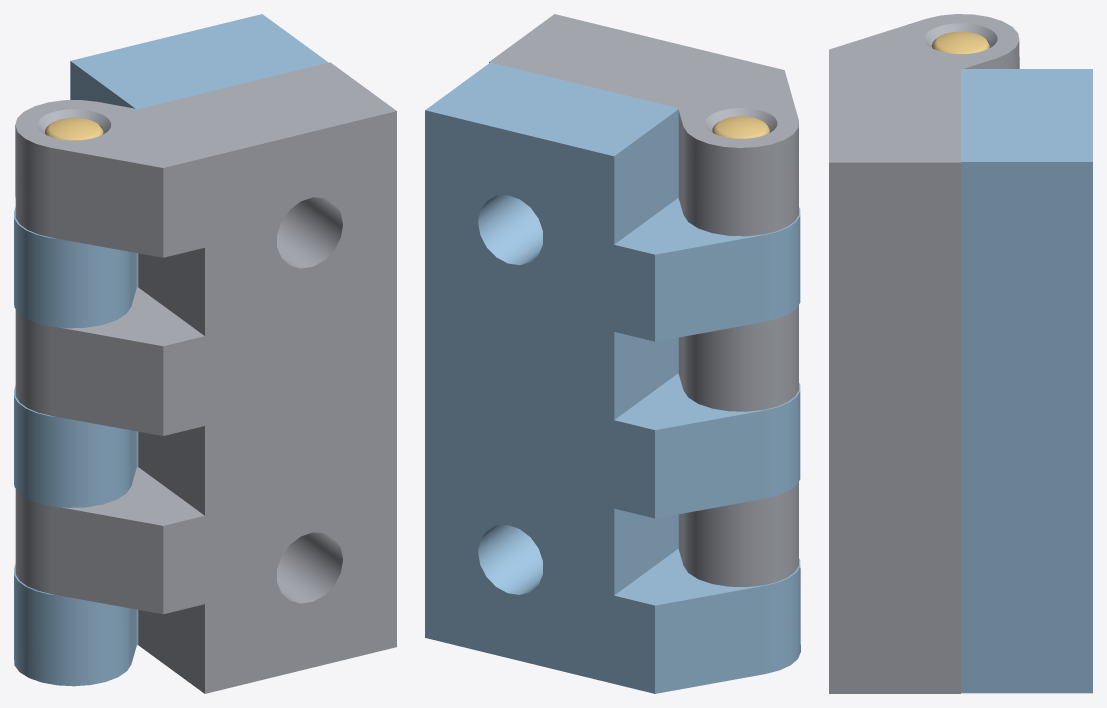
Rendered from widget_hinge.glb.
3 views of the same model, side by side, from view 1: azimuth 30°, elevation 25°; view 2: azimuth 150°, elevation 25°; view 3: azimuth 270°, elevation 25° (orthographic).
Visible parts, largest first — view 1: hinge_static_end, hinge_dynamic_end, hinge_pin; view 2: hinge_dynamic_end, hinge_static_end, hinge_pin; view 3: hinge_static_end, hinge_dynamic_end, hinge_pin.
Part boxes in pixels (<box>): hinge_static_end: <box>15,62,396,693</box>; hinge_dynamic_end: <box>14,14,328,686</box>; hinge_pin: <box>45,117,103,140</box>; hinge_dynamic_end: <box>425,62,800,693</box>; hinge_static_end: <box>489,14,798,587</box>; hinge_pin: <box>712,116,769,138</box>; hinge_static_end: <box>829,14,1019,693</box>; hinge_dynamic_end: <box>961,69,1092,693</box>; hinge_pin: <box>932,31,989,53</box>.
Bounding box in the file's own units: 0.0241 × 0.04 × 0.018.
